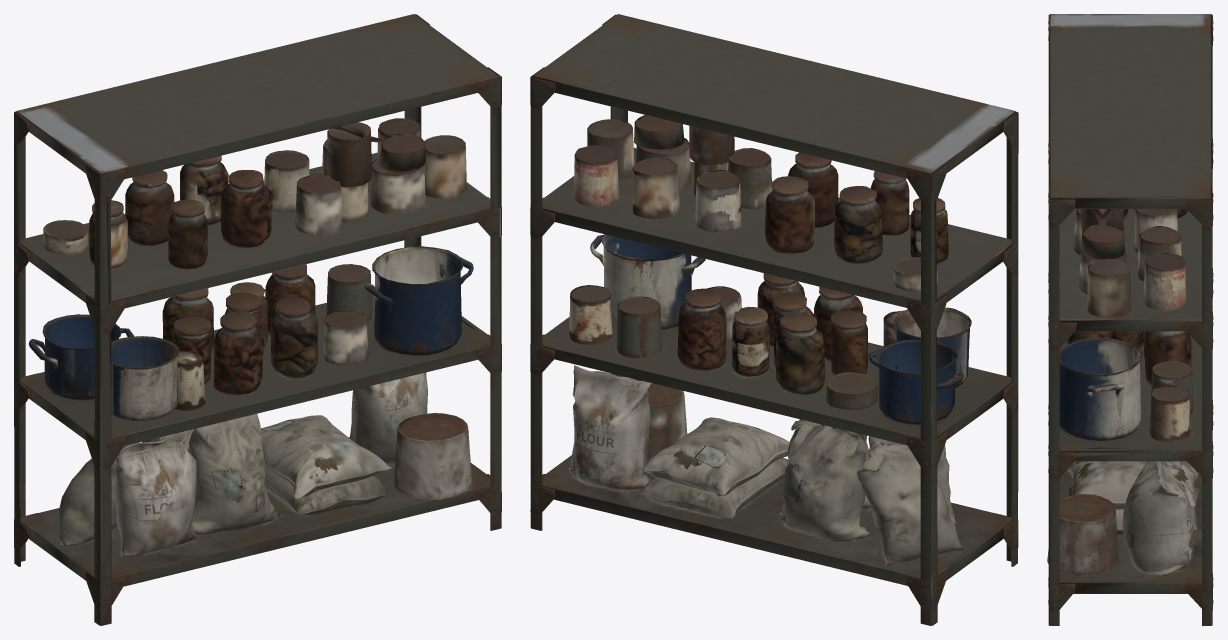
File: silo81_kitchen_shelf.glb
The picture shows the model from 3 angles, left to right: view 1: azimuth 30°, elevation 25°; view 2: azimuth 150°, elevation 25°; view 3: azimuth 270°, elevation 25°; orthographic projection. The views are drawn at different scales.
Size of the model in its own units: 0.8906 by 0.9517 by 0.3359.
1 material, 1 textured.
